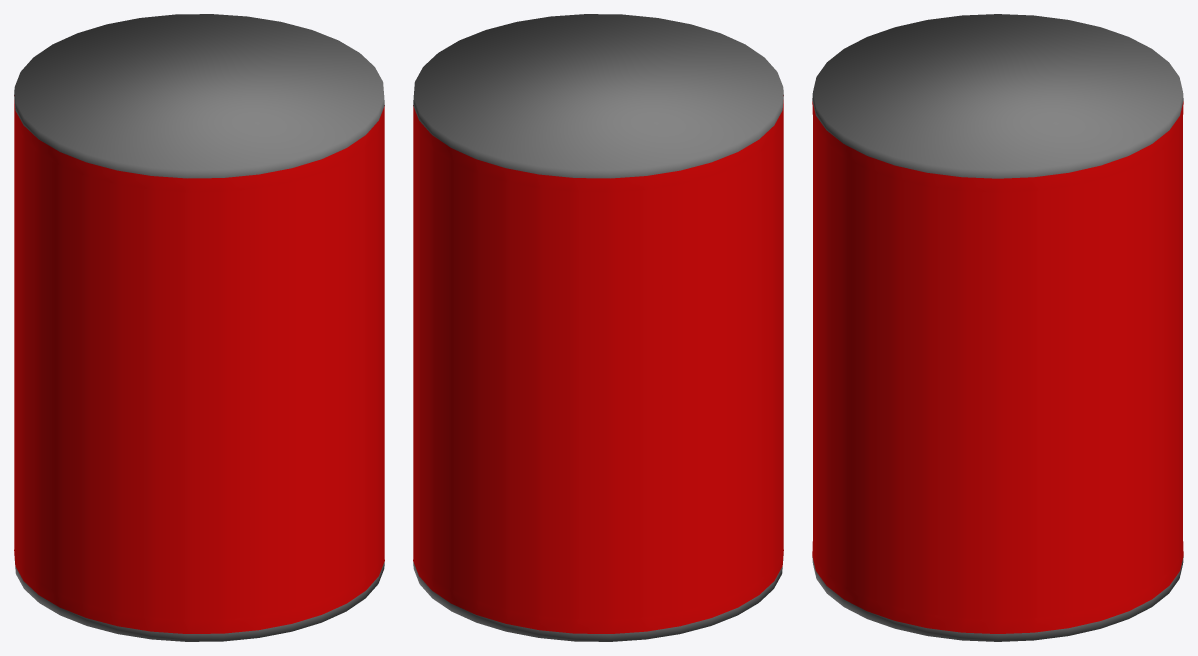
The model's file is Soup Can.glb.
3 renders of one model, left to right at view 1: azimuth 30°, elevation 25°; view 2: azimuth 150°, elevation 25°; view 3: azimuth 270°, elevation 25°, orthographic.
Visible parts, largest first — view 1: Cylinder; view 2: Cylinder; view 3: Cylinder.
Boxes of the visible parts, box(x1,y1,x2,y2) form: Cylinder: box(14, 14, 384, 641); Cylinder: box(413, 14, 783, 641); Cylinder: box(812, 14, 1183, 641).
Bounding box in the file's own units: 2.01 × 2.81 × 2.01.
